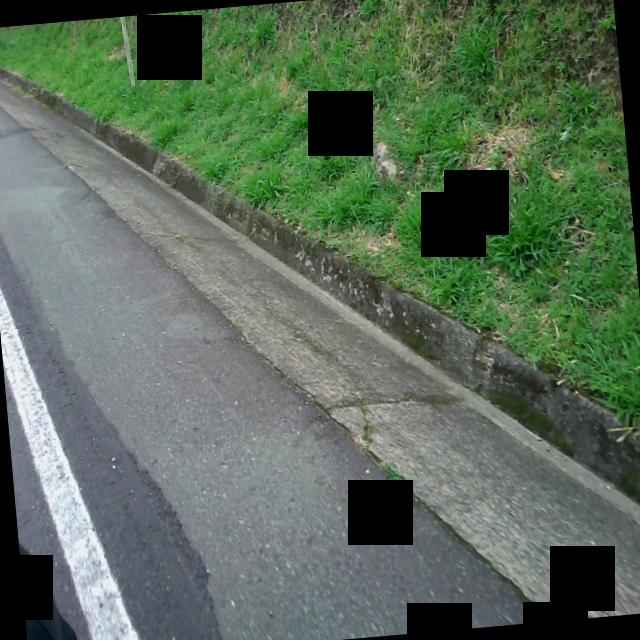DITCH: (0, 1, 640, 640), (0, 38, 640, 640)
